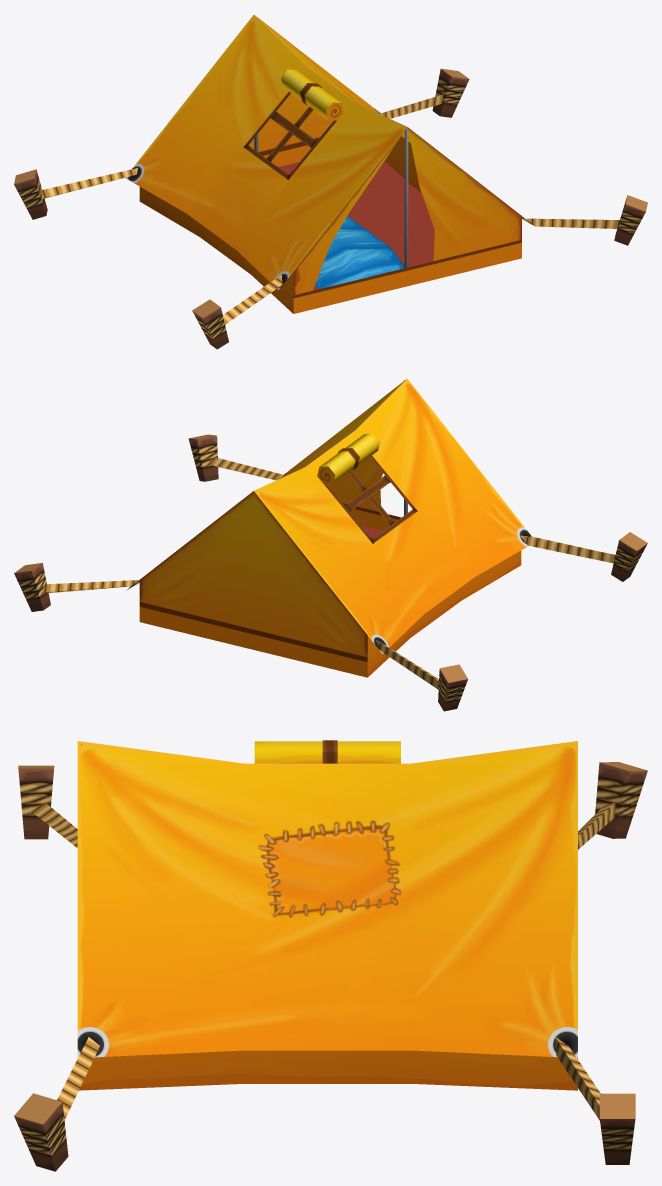
Rendered from tent_A.FBX.
3 views of the same model, one above another, from view 1: azimuth 30°, elevation 25°; view 2: azimuth 150°, elevation 25°; view 3: azimuth 270°, elevation 25° (orthographic). The views are drawn at different scales.
Visible parts, largest first — view 1: tent_A, sleepingBag; view 2: tent_A; view 3: tent_A.
Boxes of the visible parts, x1,y1,x2,y2 form: tent_A: (14,15,647,349); sleepingBag: (315,216,404,288); tent_A: (14,378,647,711); tent_A: (14,740,647,1171).
Size of the model in its own units: 360 by 121 by 266.
